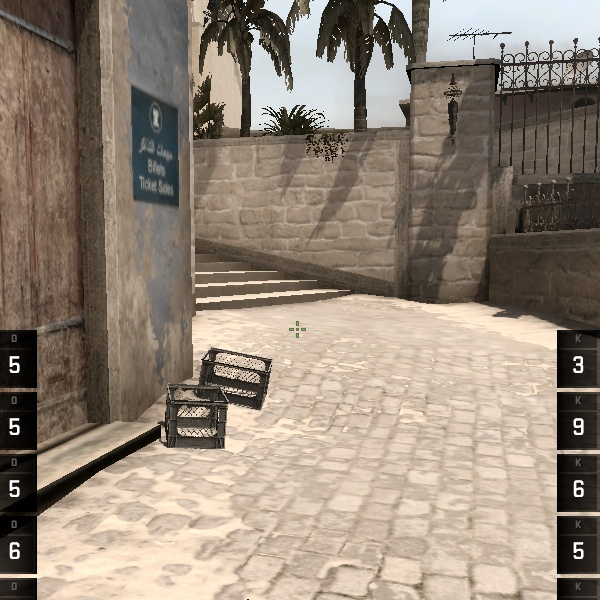t_body: (240, 0, 296, 82)
